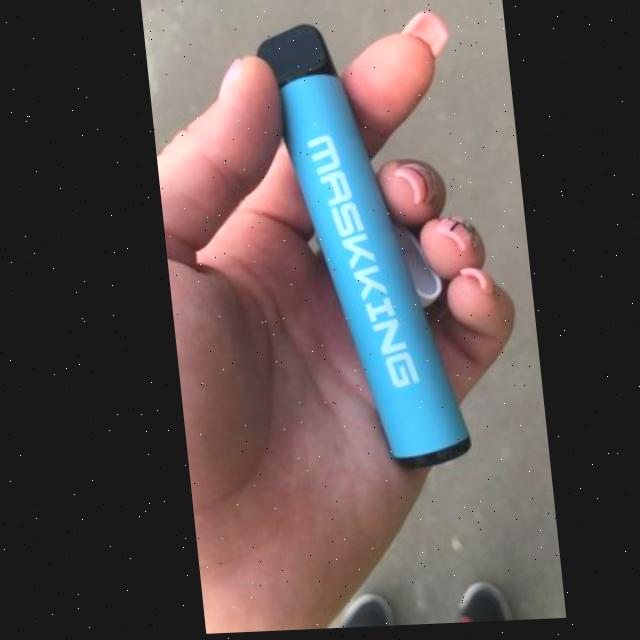vape: (252, 22, 467, 476)
